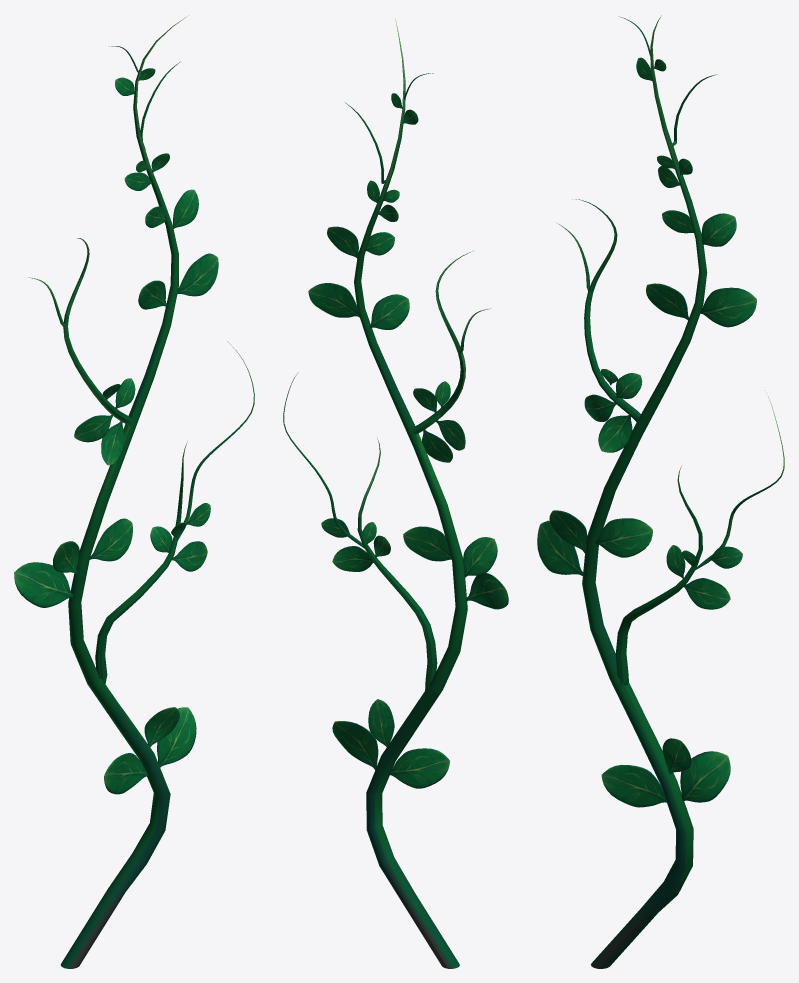
Rendered from Production_vines.fbx.
3 views of the same model, side by side, from view 1: azimuth 30°, elevation 25°; view 2: azimuth 150°, elevation 25°; view 3: azimuth 330°, elevation 25° (orthographic). The views are drawn at different scales.
Parts seen in each view (by area): view 1: Production_vines2:Vine_main1; view 2: Production_vines2:Vine_main1; view 3: Production_vines2:Vine_main1.
Part boxes in pixels (<box>): Production_vines2:Vine_main1: <box>14,17,254,968</box>; Production_vines2:Vine_main1: <box>283,18,508,968</box>; Production_vines2:Vine_main1: <box>537,15,784,968</box>.
Size of the model in its own units: 9.11 by 34.85 by 2.36.
